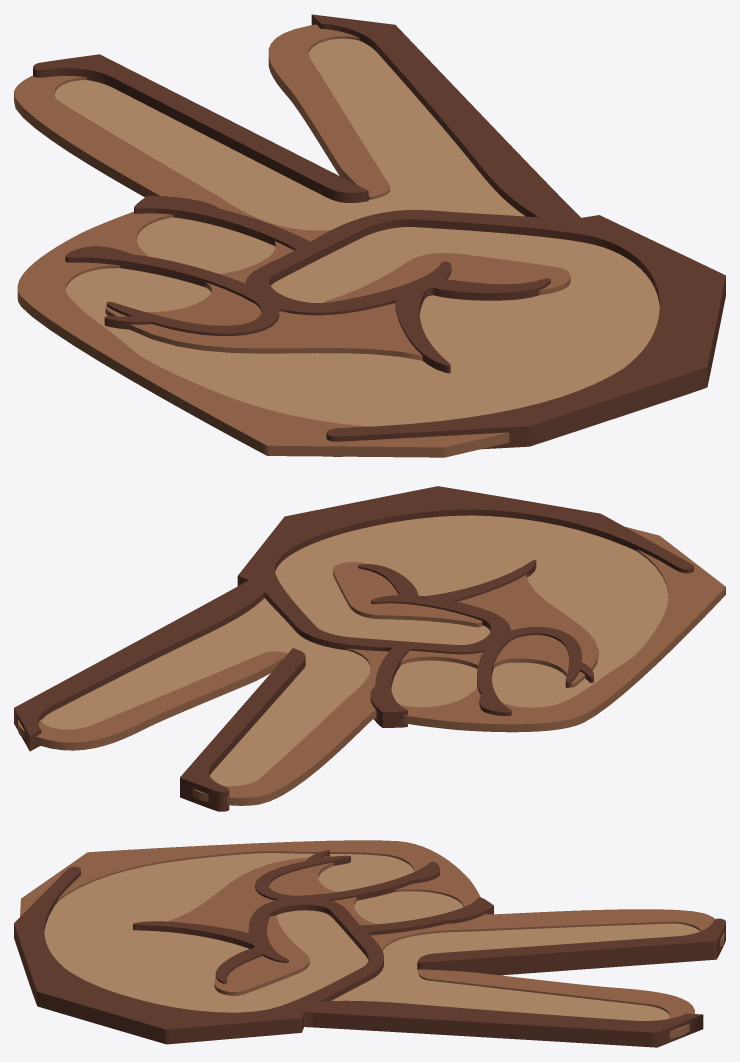
File: emoji_u270c_1f3fd.glb
3 renders of one model, top to bottom at view 1: azimuth 30°, elevation 25°; view 2: azimuth 150°, elevation 25°; view 3: azimuth 270°, elevation 25°, orthographic. The views are drawn at different scales.
Visible parts, largest first — view 1: emoji_u270c_1f3fd; view 2: emoji_u270c_1f3fd; view 3: emoji_u270c_1f3fd.
Part boxes in pixels (left/top/right/bottom): emoji_u270c_1f3fd: left=14, top=14, right=725, bottom=457; emoji_u270c_1f3fd: left=14, top=486, right=725, bottom=811; emoji_u270c_1f3fd: left=14, top=840, right=725, bottom=1047.
Size of the model in its own units: 0.0228 by 0.001 by 0.0349.
